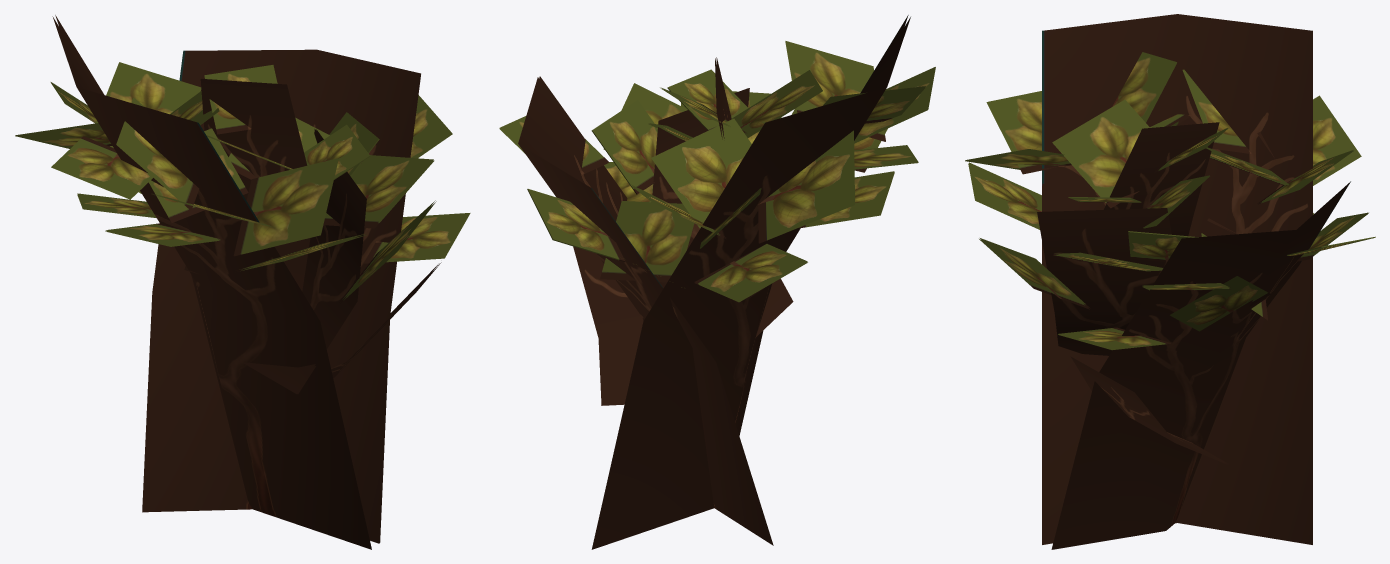
The model's file is bush_01.fbx.
3 renders of one model, left to right at view 1: azimuth 30°, elevation 25°; view 2: azimuth 150°, elevation 25°; view 3: azimuth 270°, elevation 25°, orthographic. The views are drawn at different scales.
Parts seen in each view (by area): view 1: bush_01; view 2: bush_01; view 3: bush_01.
Part boxes in pixels (left/top/right/bottom): bush_01: left=15, top=15, right=470, bottom=549; bush_01: left=499, top=15, right=935, bottom=549; bush_01: left=965, top=14, right=1375, bottom=549.
Size of the model in its own units: 6.81 by 7.78 by 6.66.
